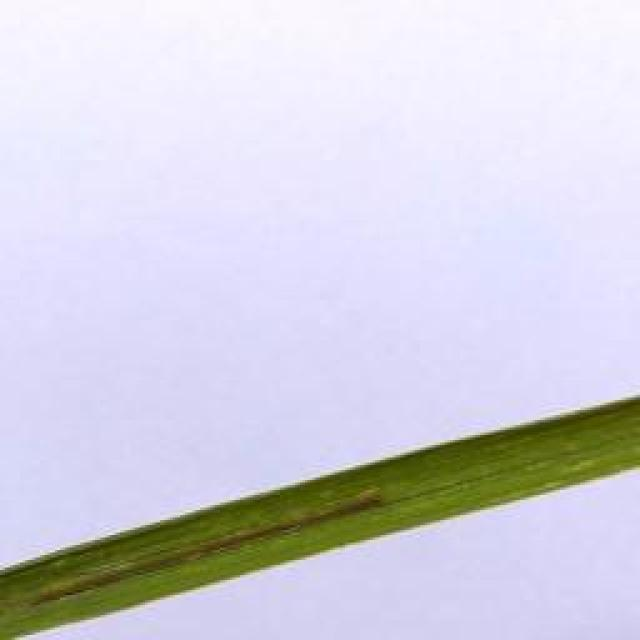Brown_Spot: (119, 495, 322, 589)
